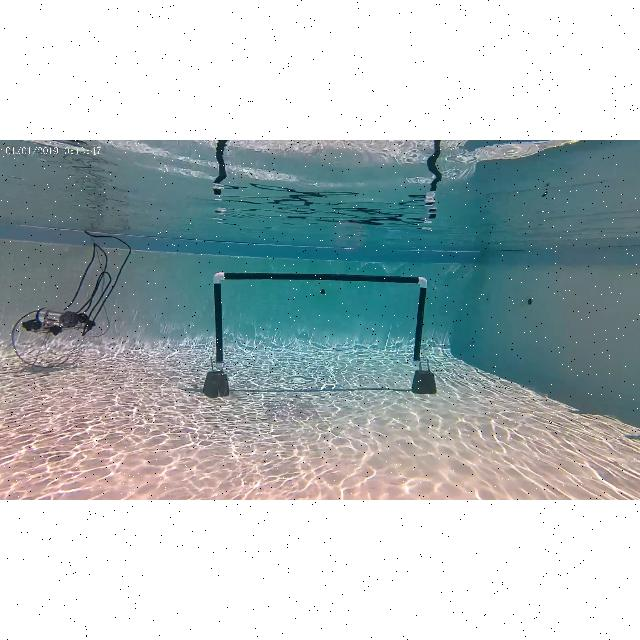prequal gate: (214, 272, 428, 368)
prequal gate leg l: (213, 271, 234, 374)
prequal gate leg r: (414, 277, 428, 367)
